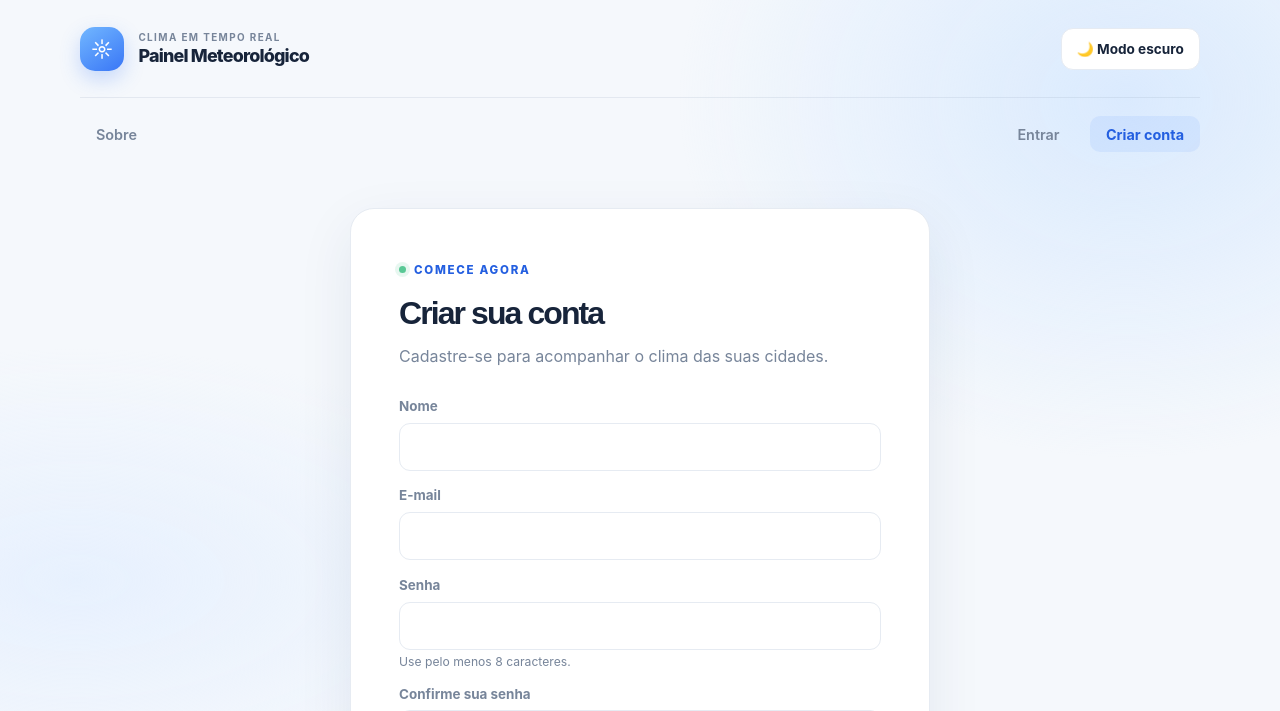
Test: Fluxo de autenticação (integração) › cadastra uma conta, salva a sessão e libera o painel
The image size is (1280, 711).
Type "Pessoa Nova" into the field labelled "Nome" at (640, 447), box [399, 423, 881, 471]
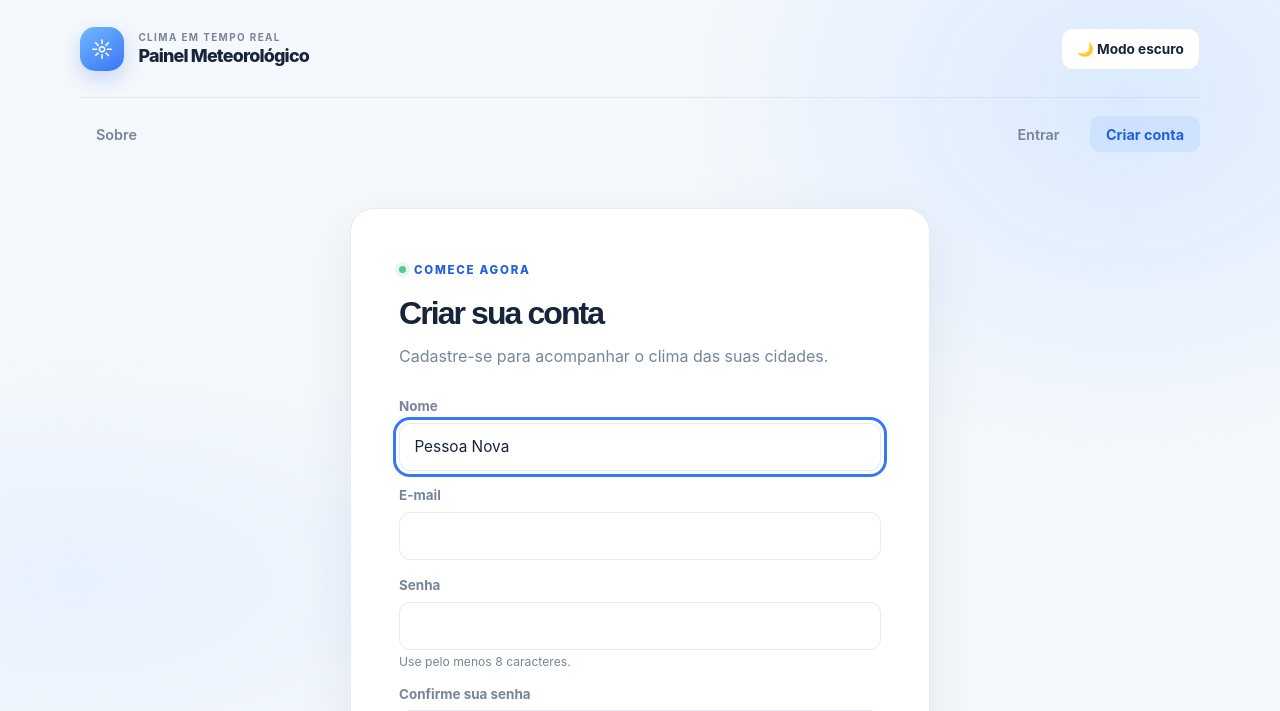
Type "nova@painel.com" into the field labelled "E-mail" at (640, 536), box [399, 512, 881, 560]
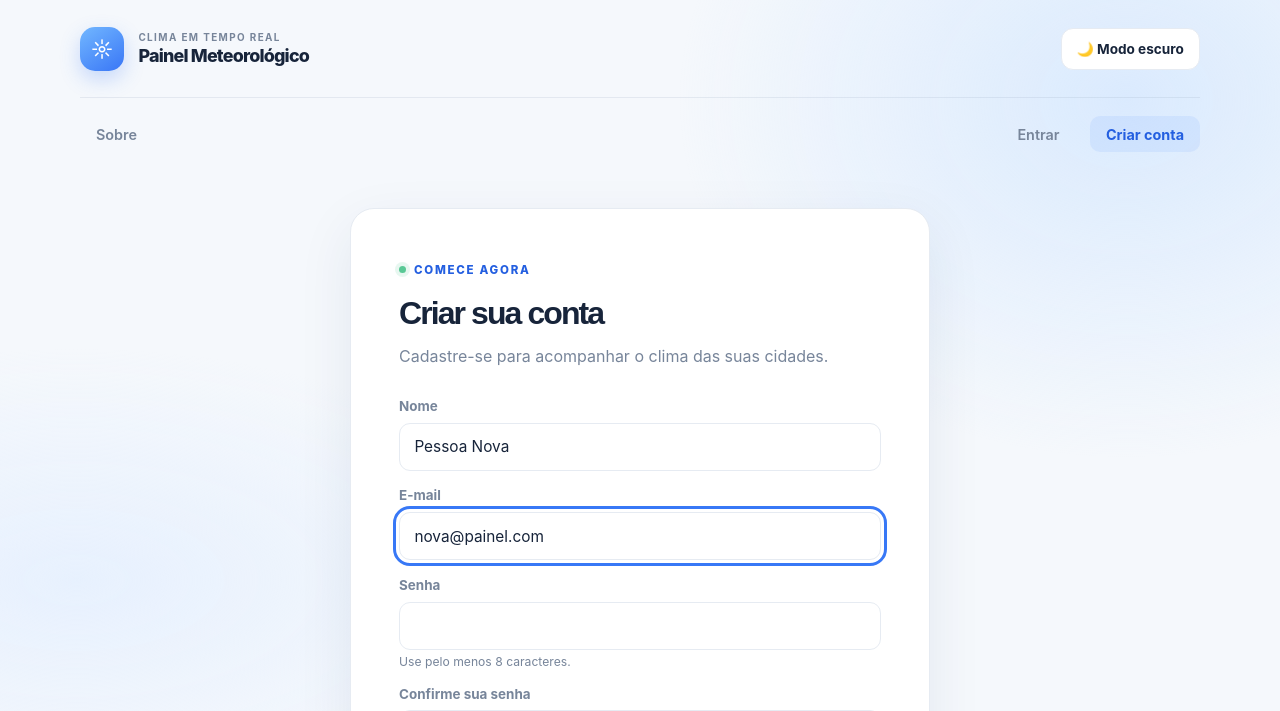
Type "senha-segura" into the password field labelled "Senha" at (640, 626), box [399, 602, 881, 650]
(page scrolled)
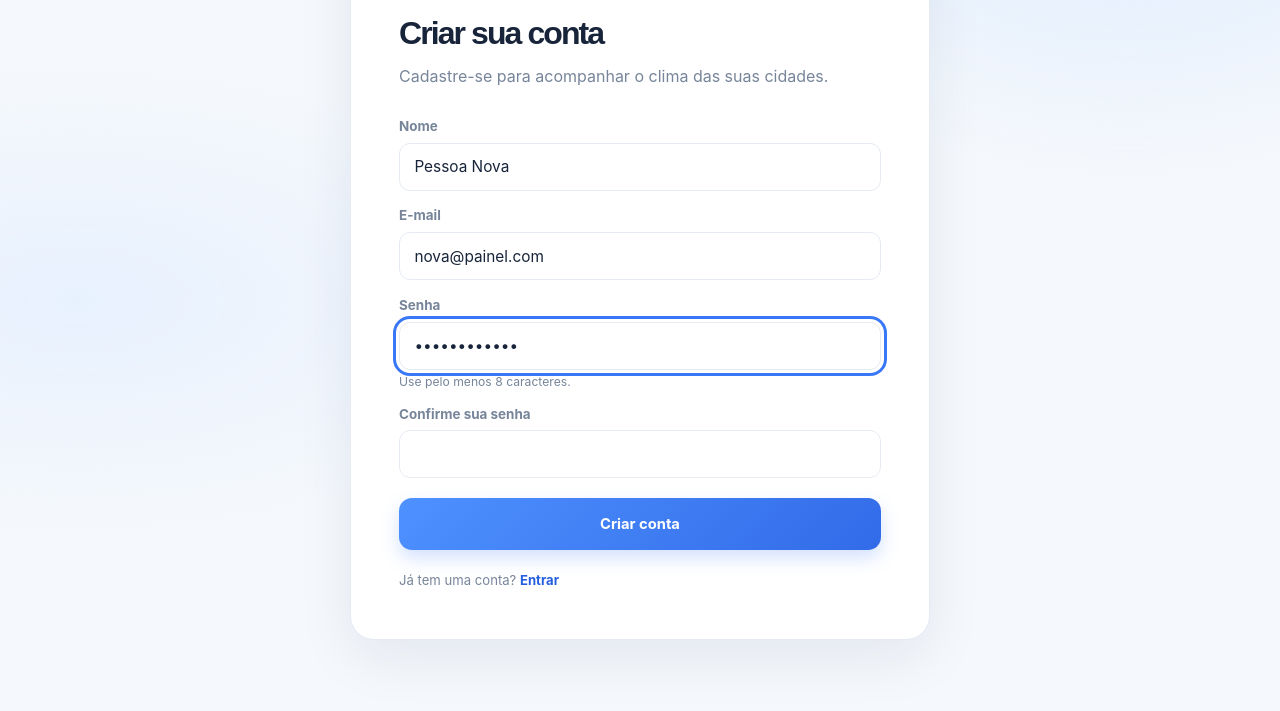
Type "senha-segura" into the password field labelled "Confirme sua senha" at (640, 454), box [399, 430, 881, 478]
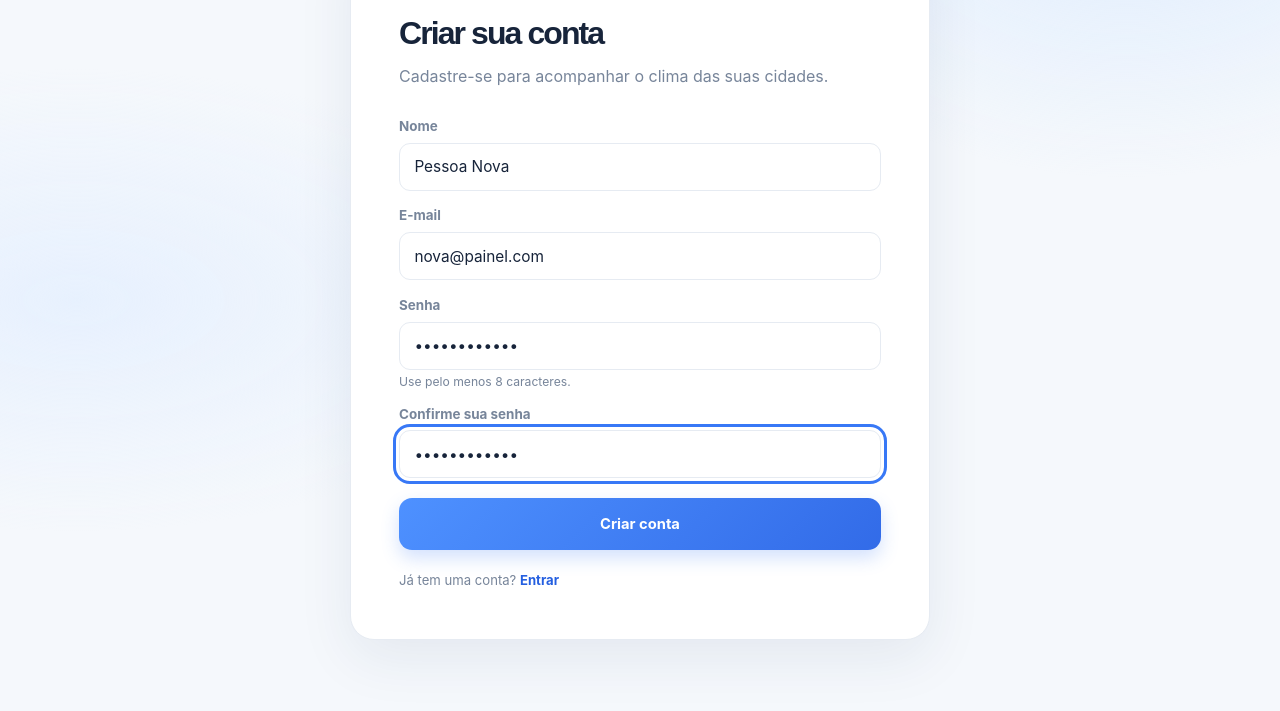
Click the button "Criar conta" at (640, 524), box [399, 498, 881, 550]
(page scrolled)
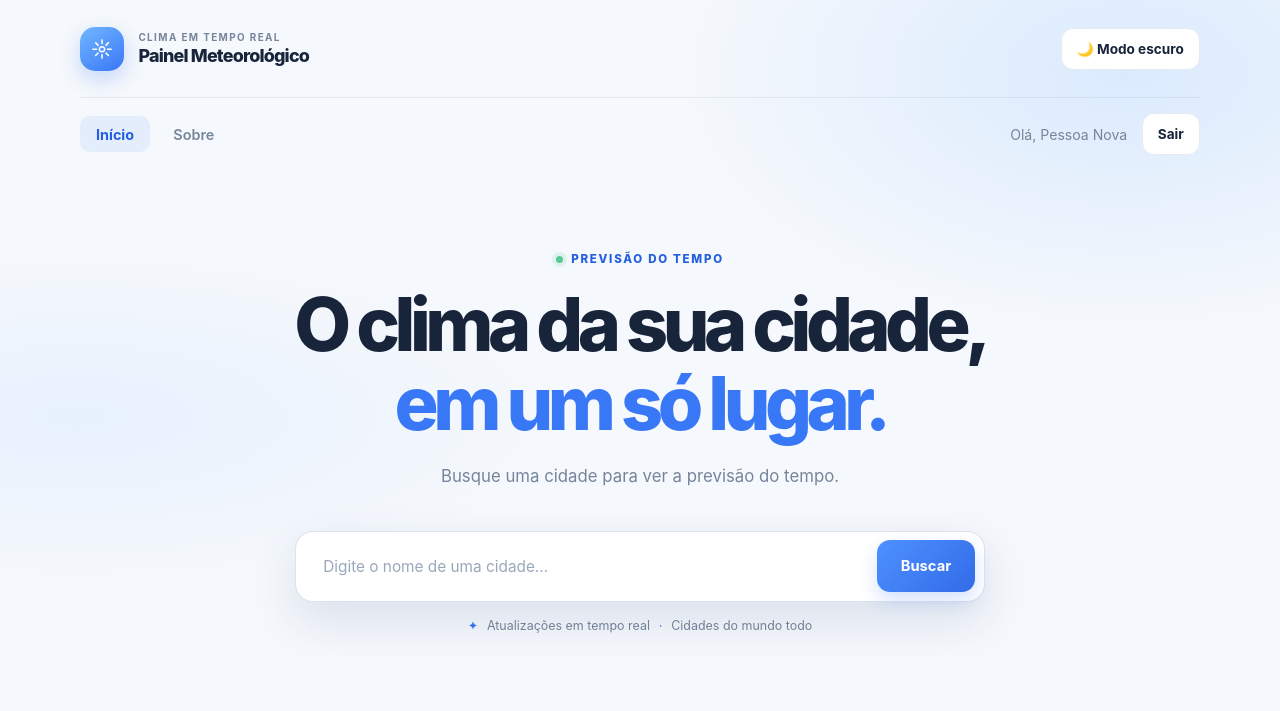
Expected: the dropdown with placeholder "Digite o nome de uma cidade..." is shown, [305, 540, 868, 592]
Expected: the text "Olá, Pessoa Nova" is shown, [1010, 126, 1127, 142]
